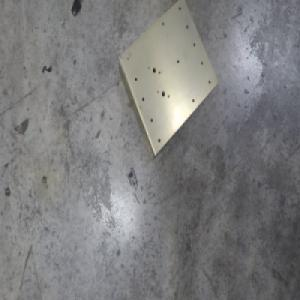MetalSheet: (116, 0, 218, 161)
